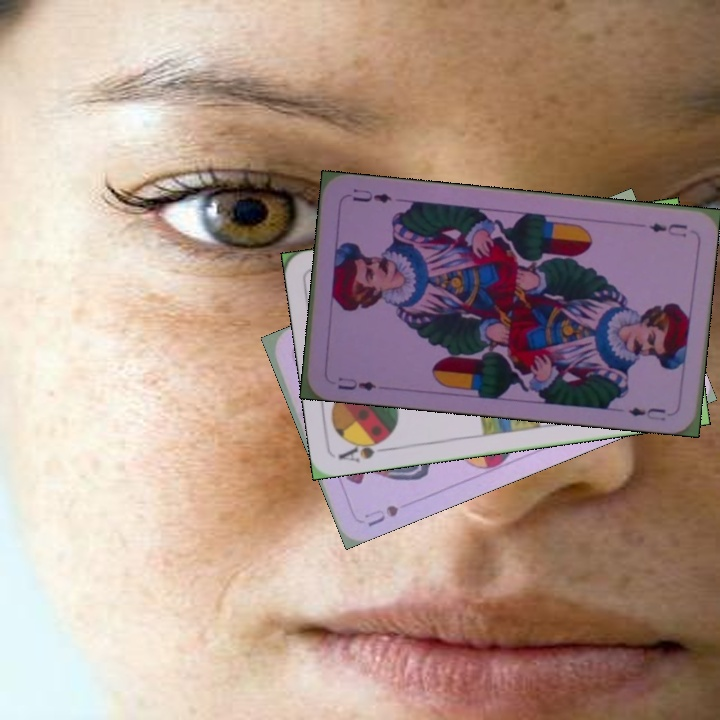EU: (645, 219, 690, 240), (334, 373, 378, 393)
SA: (335, 433, 394, 465)
SU: (360, 498, 403, 530)
